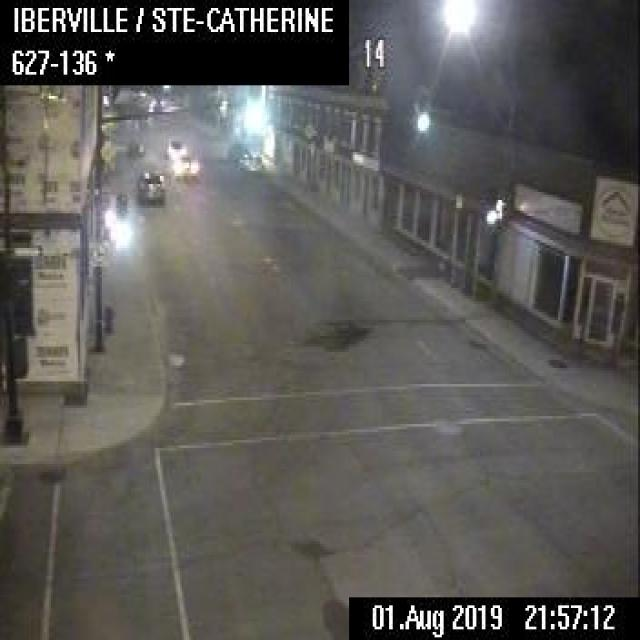vehicle: (135, 168, 165, 202), (234, 144, 264, 170), (172, 152, 197, 177), (163, 136, 186, 159)
